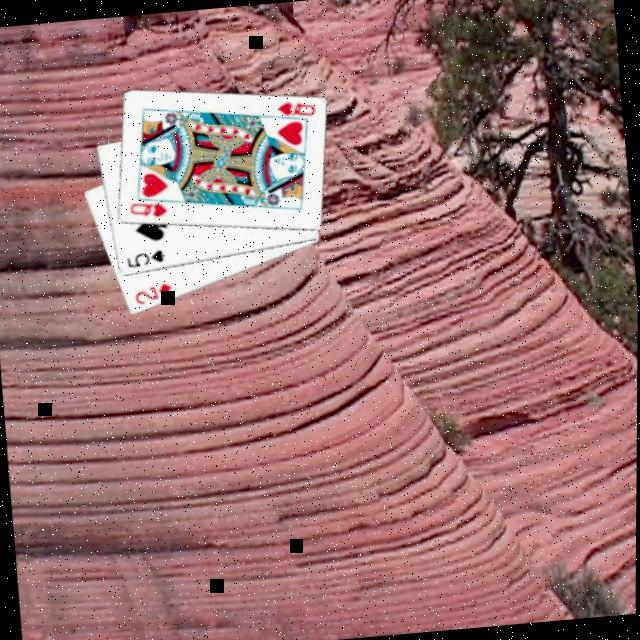2D: (130, 278, 174, 307)
5S: (122, 246, 167, 270)
QH: (267, 96, 317, 125), (125, 196, 169, 222)
